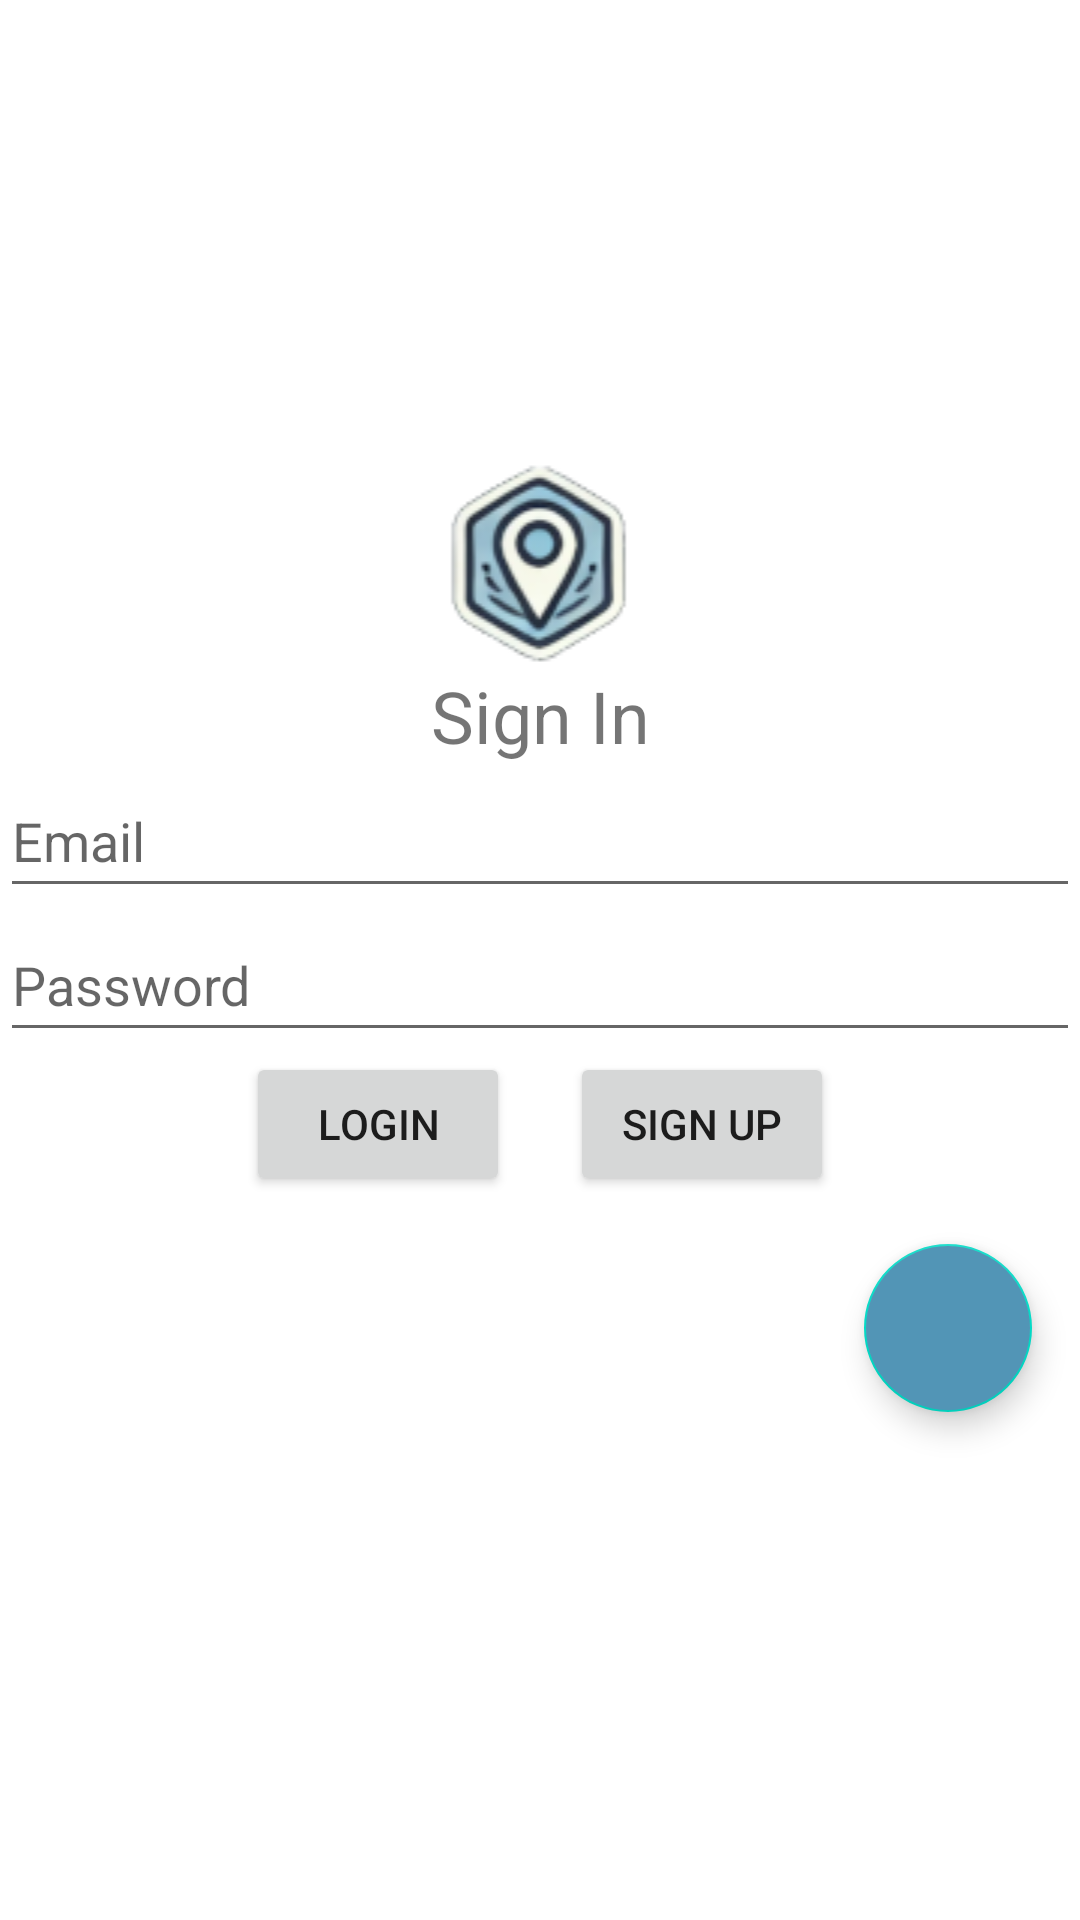

Screen size 1080x1920. Icon name, then its center in pixels as (x,y):
waypinpointfront: (538,564)
